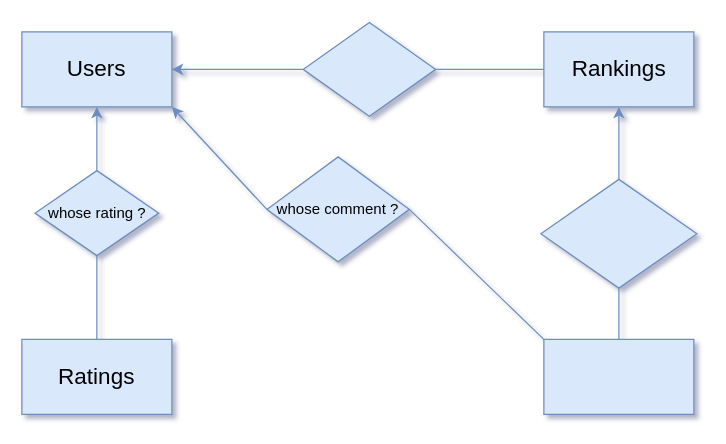
Image size: 726x444. Some labels were removed from this diagram. Each missing label, with the box of its shape:
commented which ranking ?: (540, 178, 697, 288)
Comments: (543, 338, 694, 414)
whose ranking ?: (302, 21, 436, 116)
